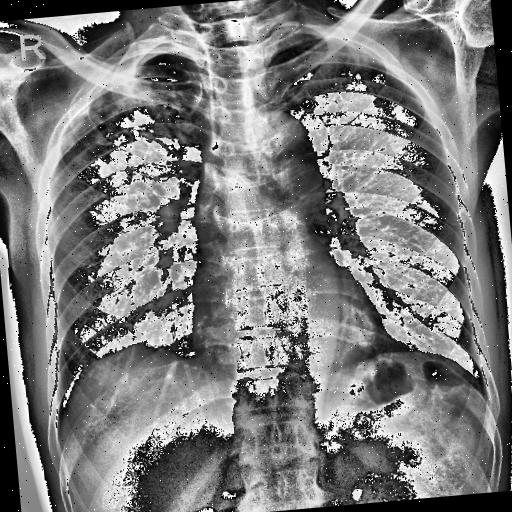11- Pleural thickening: (24, 31, 234, 195), (58, 55, 151, 110)
13- Pulmonary fibrosis: (24, 31, 234, 195), (74, 66, 208, 172), (276, 47, 371, 127), (90, 100, 170, 161)
2- Calcification: (24, 31, 234, 195)
6- Infiltration: (74, 66, 208, 172)
7- Lung Opacity: (74, 66, 208, 172)
